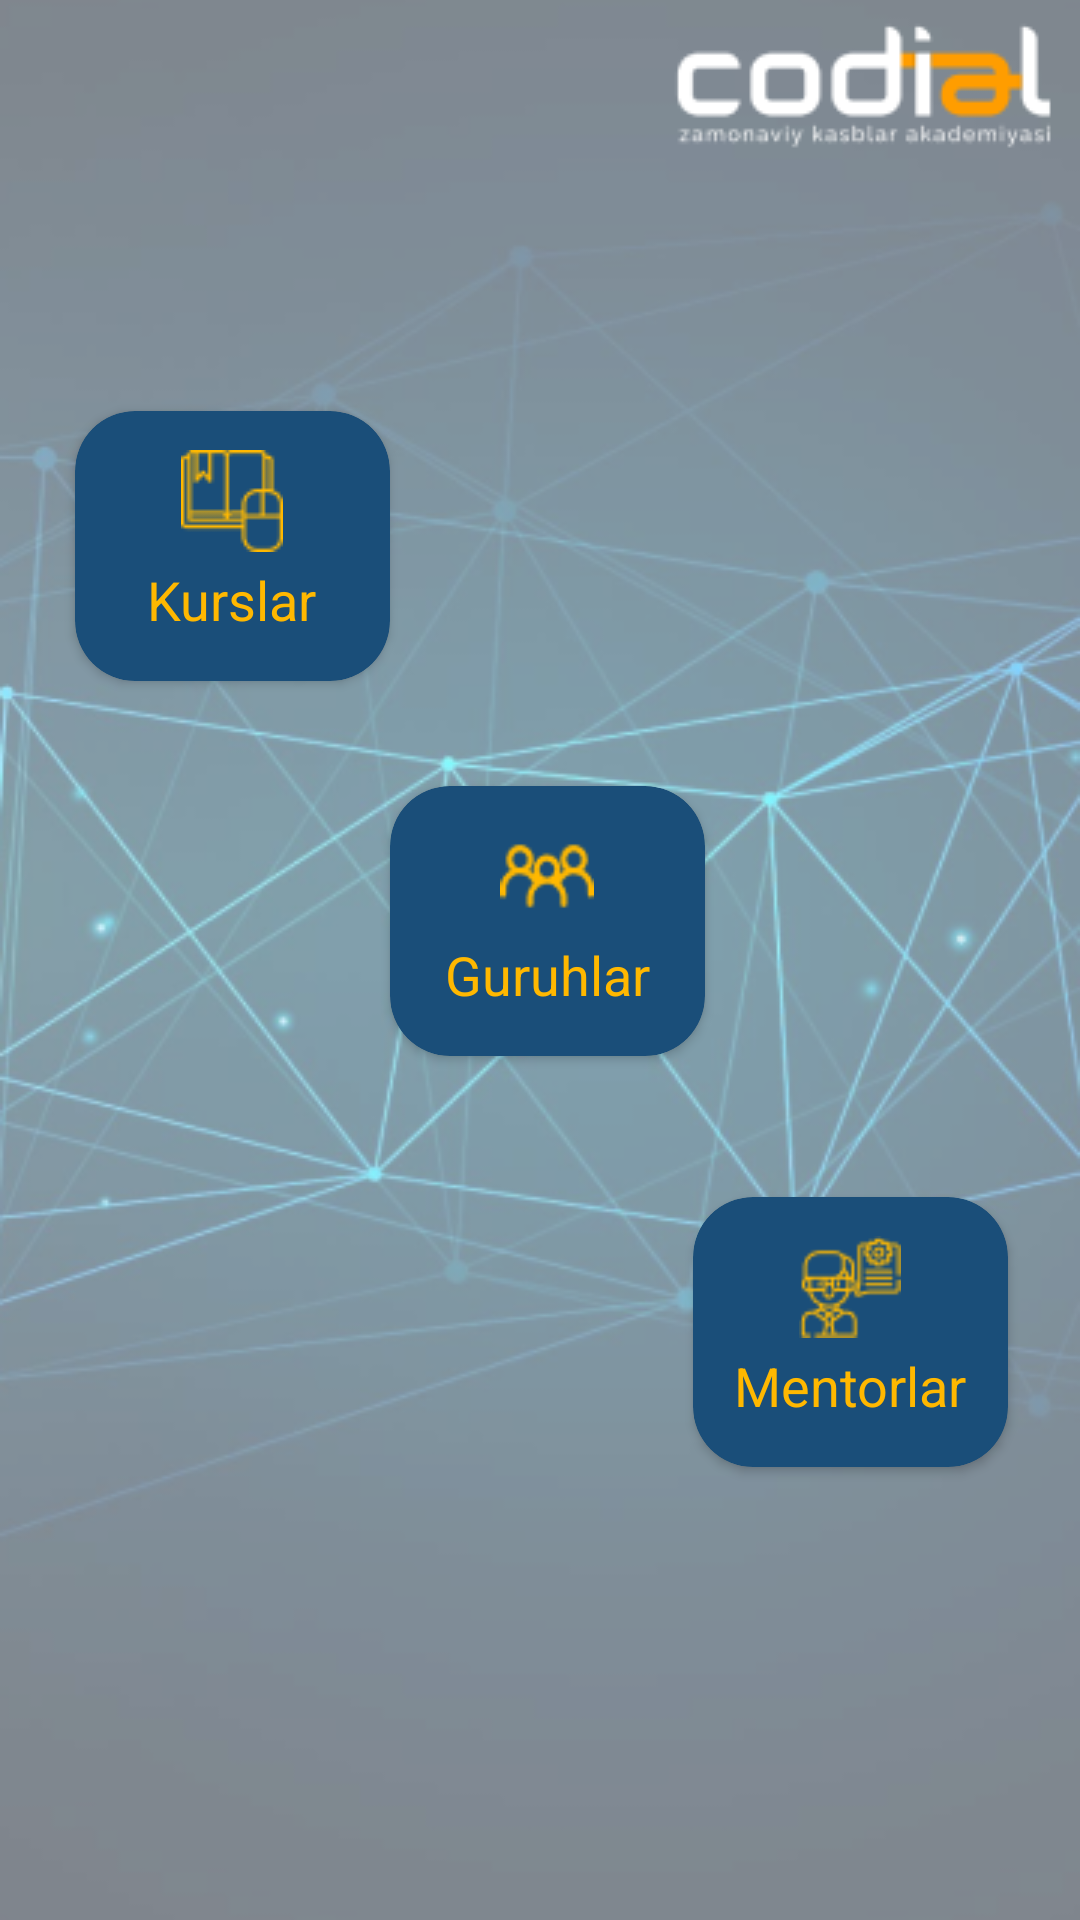

Where icons sit on this 1080×1920 app screen, as Rect(x1, y1, x2, y2):
people: Rect(500, 844, 594, 908)
